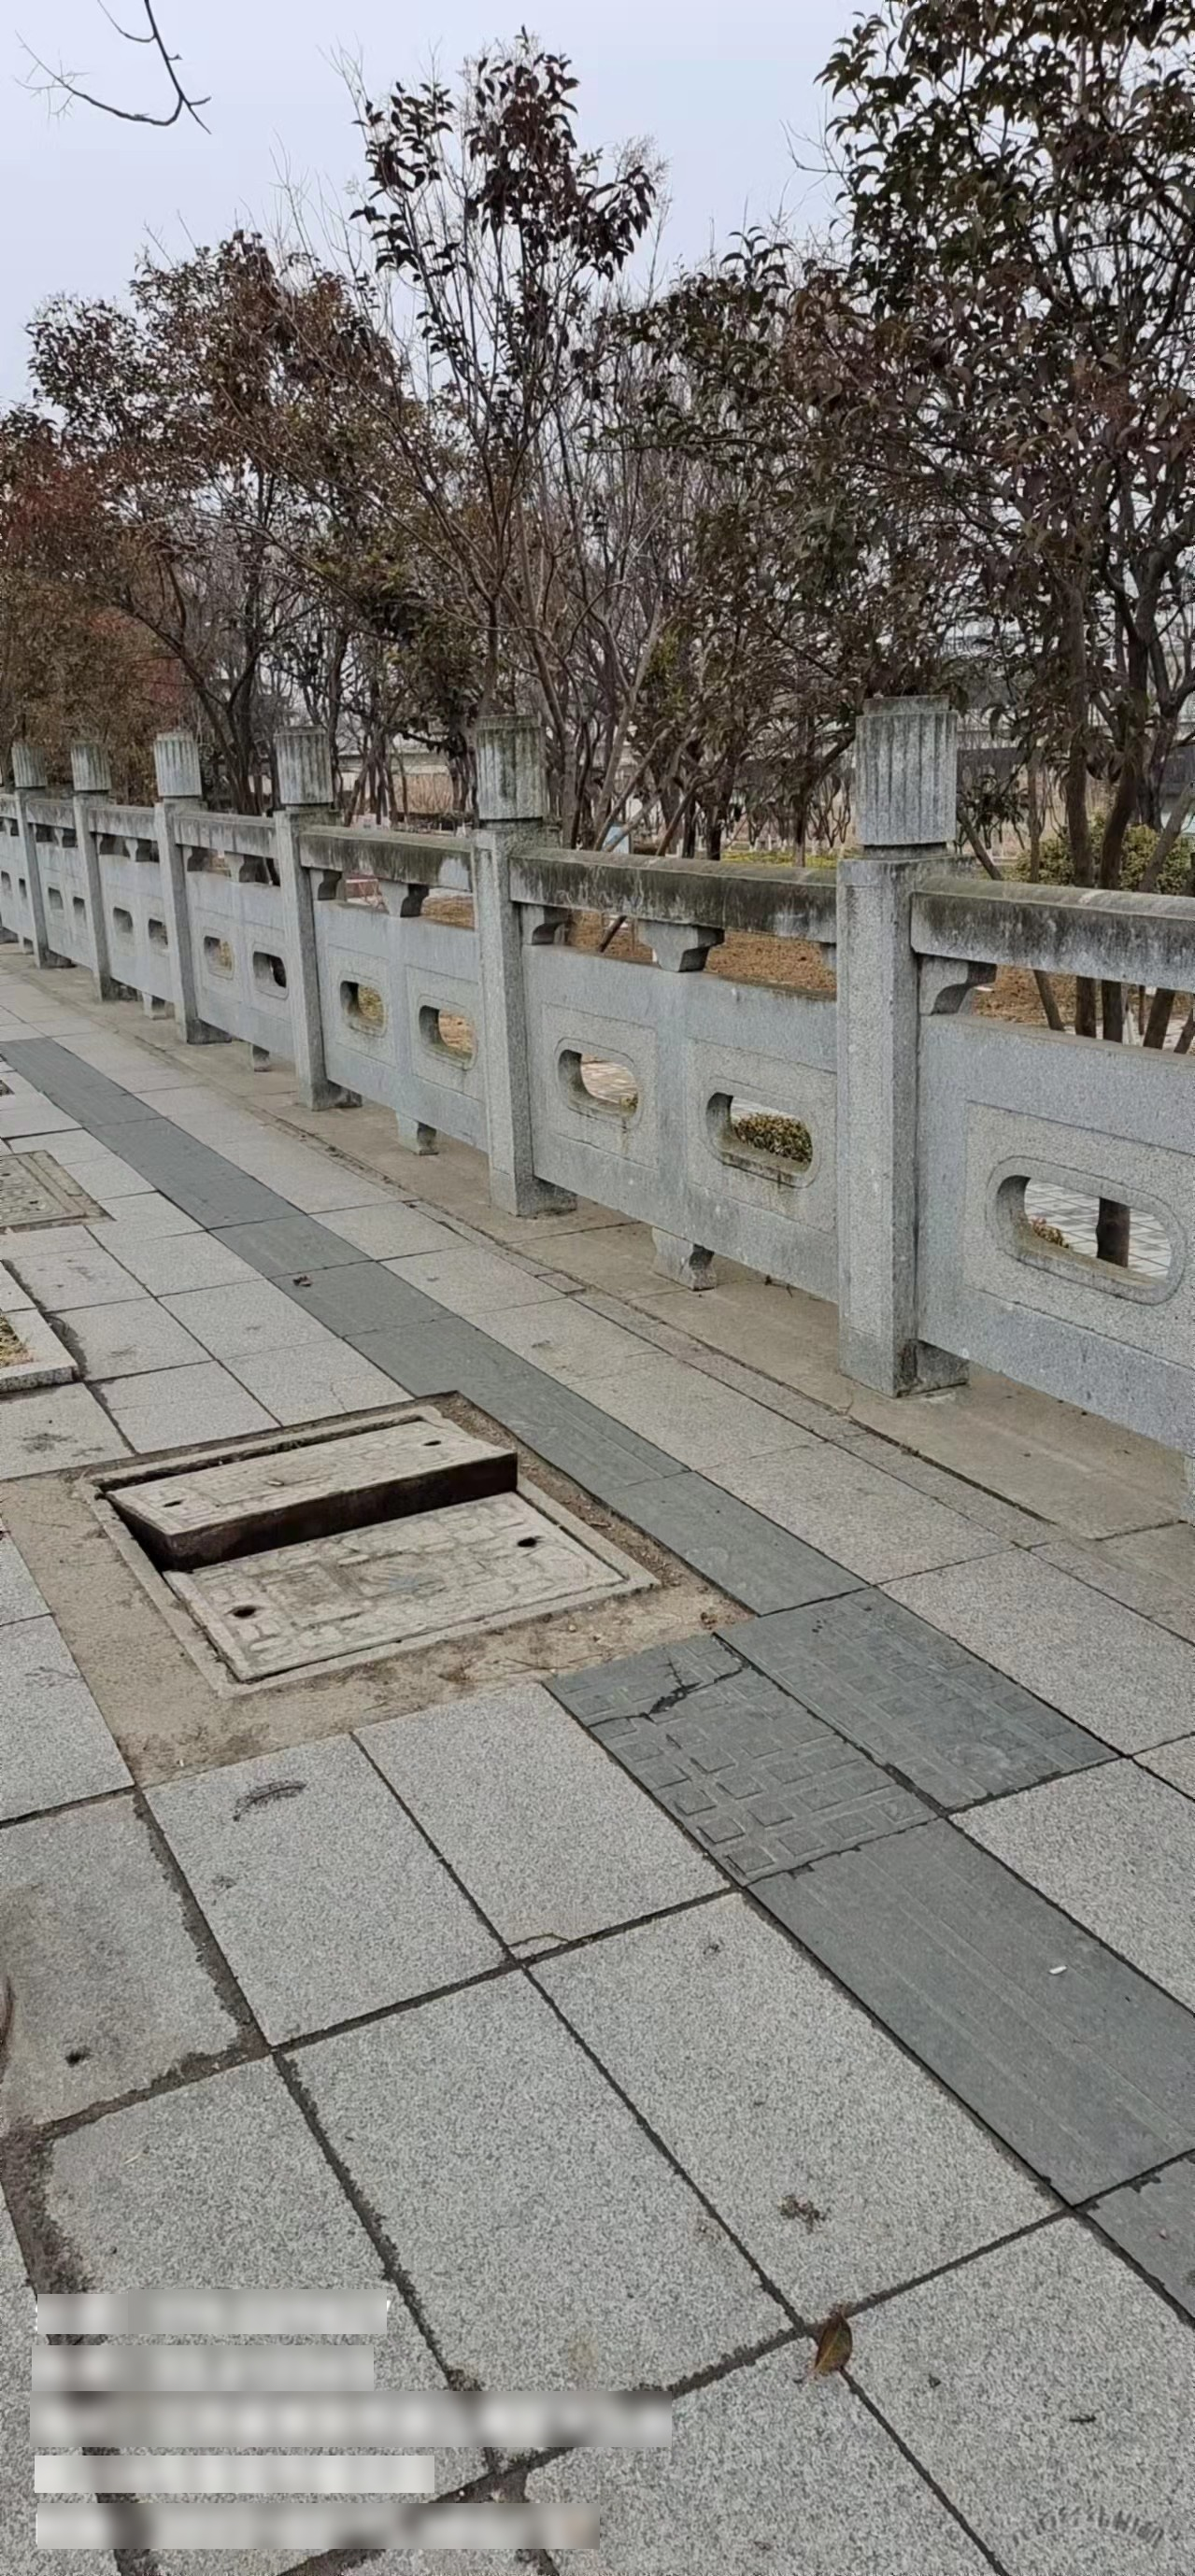uncovered: (66, 1393, 664, 1695)
